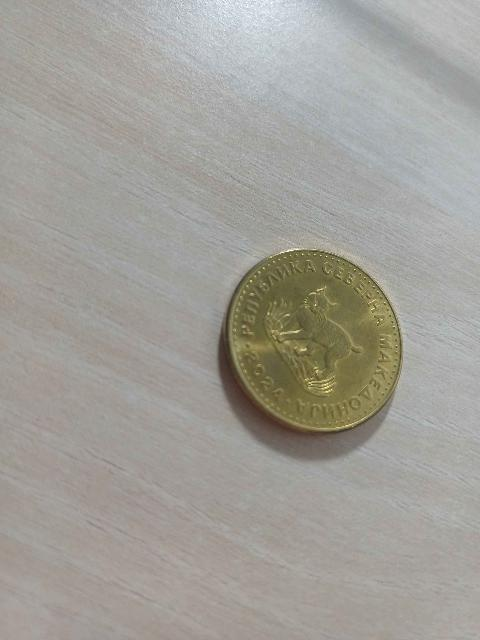5_coin: (225, 250, 402, 431)
